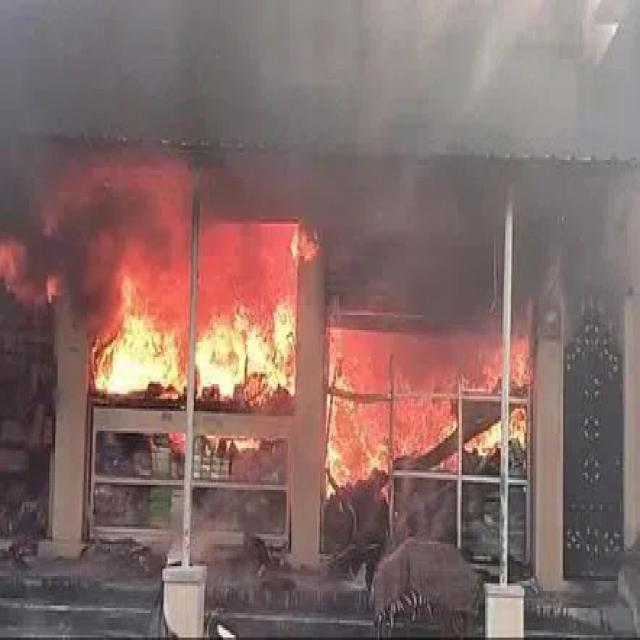fire: (91, 276, 187, 395), (195, 297, 295, 401), (327, 327, 385, 499), (196, 223, 296, 298), (385, 395, 457, 469), (0, 238, 59, 302), (464, 405, 526, 455)
